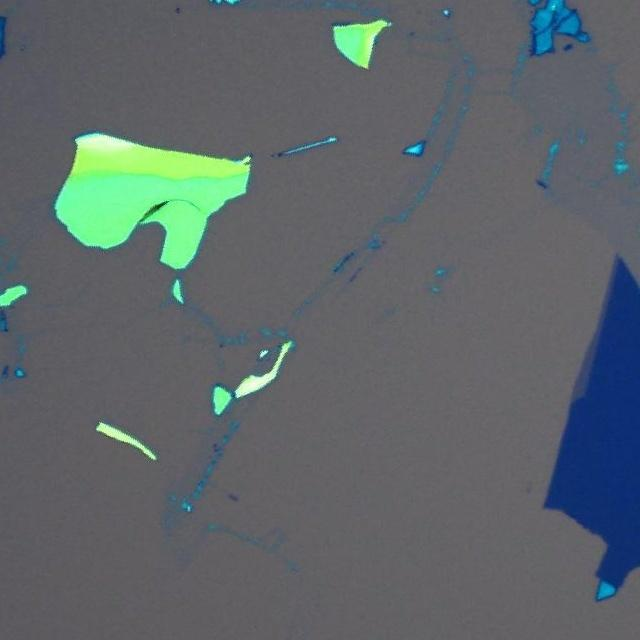monolayer-eWW4: (568, 251, 626, 399)
